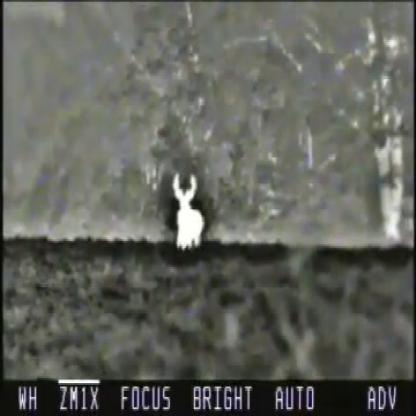rehkitze: (171, 168, 206, 252)
